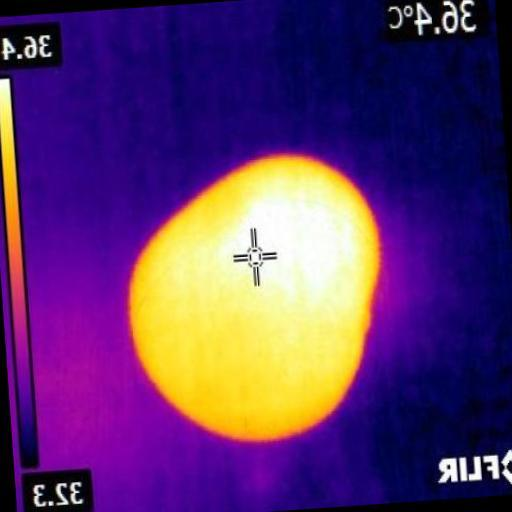alphanso: (128, 157, 379, 441)
